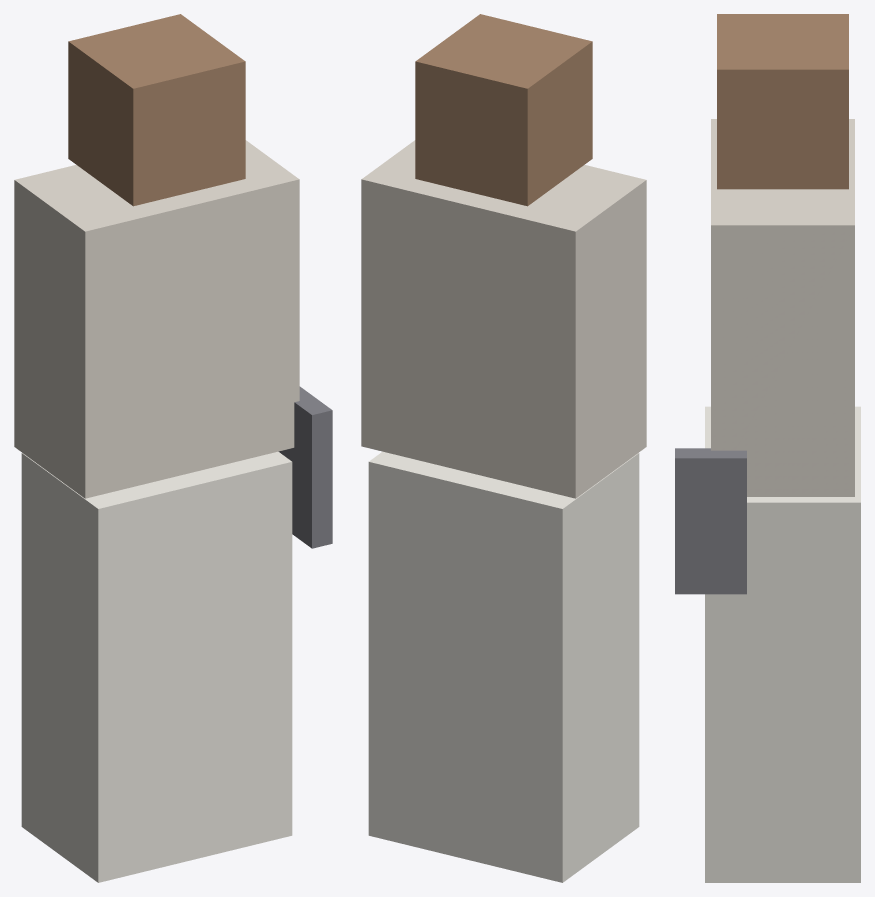
The model's file is farmer.glb.
3 views of the same model, side by side, from view 1: azimuth 30°, elevation 25°; view 2: azimuth 150°, elevation 25°; view 3: azimuth 270°, elevation 25° (orthographic).
Visible parts, largest first — view 1: Dhoti_Node, Torso_Node, Head_Node, Sickle_Node; view 2: Dhoti_Node, Torso_Node, Head_Node; view 3: Dhoti_Node, Torso_Node, Head_Node, Sickle_Node.
Boxes of the visible parts, x1,y1,x2,y2 form: Dhoti_Node: [21, 451, 292, 882]; Torso_Node: [14, 140, 299, 498]; Head_Node: [68, 14, 245, 206]; Sickle_Node: [278, 386, 332, 548]; Dhoti_Node: [368, 451, 639, 882]; Torso_Node: [361, 140, 646, 498]; Head_Node: [415, 14, 592, 206]; Dhoti_Node: [705, 406, 860, 882]; Torso_Node: [711, 119, 854, 496]; Head_Node: [717, 14, 848, 189]; Sickle_Node: [675, 448, 746, 594].
Size of the model in its own units: 0.45 by 1.46 by 0.31.
